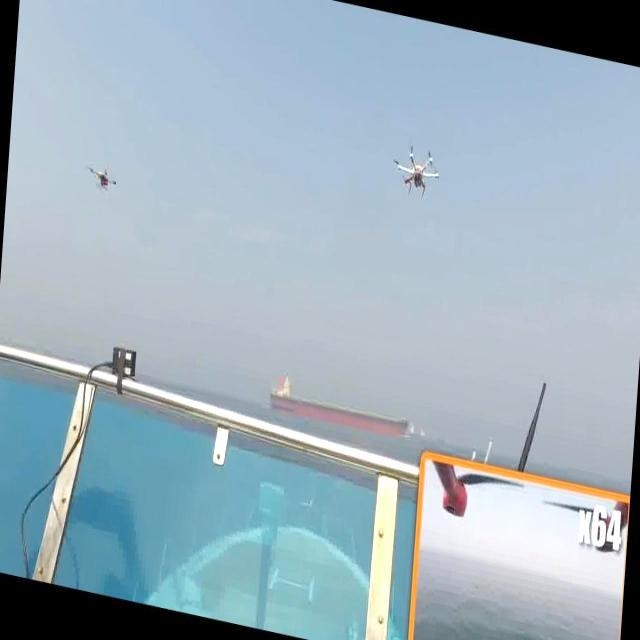drone: (384, 128, 448, 207), (82, 156, 121, 208)
